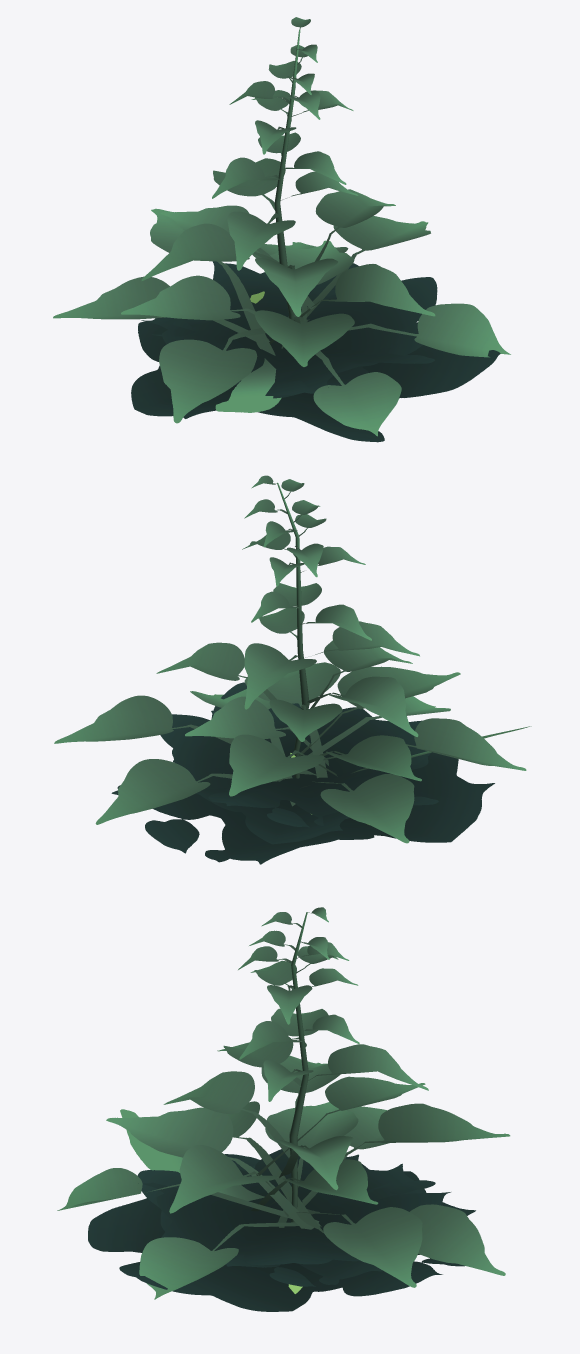
File: plant_02.glb
3 renders of one model, top to bottom at view 1: azimuth 30°, elevation 25°; view 2: azimuth 150°, elevation 25°; view 3: azimuth 270°, elevation 25°, orthographic. The views are drawn at different scales.
Parts seen in each view (by area): view 1: plant_02; view 2: plant_02; view 3: plant_02.
Part boxes in pixels (x1,y1,x2,y2): plant_02: [53, 17, 510, 442]; plant_02: [54, 475, 531, 864]; plant_02: [57, 907, 510, 1311].
Bounding box in the file's own units: 1.13 × 0.792 × 1.09.
Materials: 1 (1 with a texture image).
